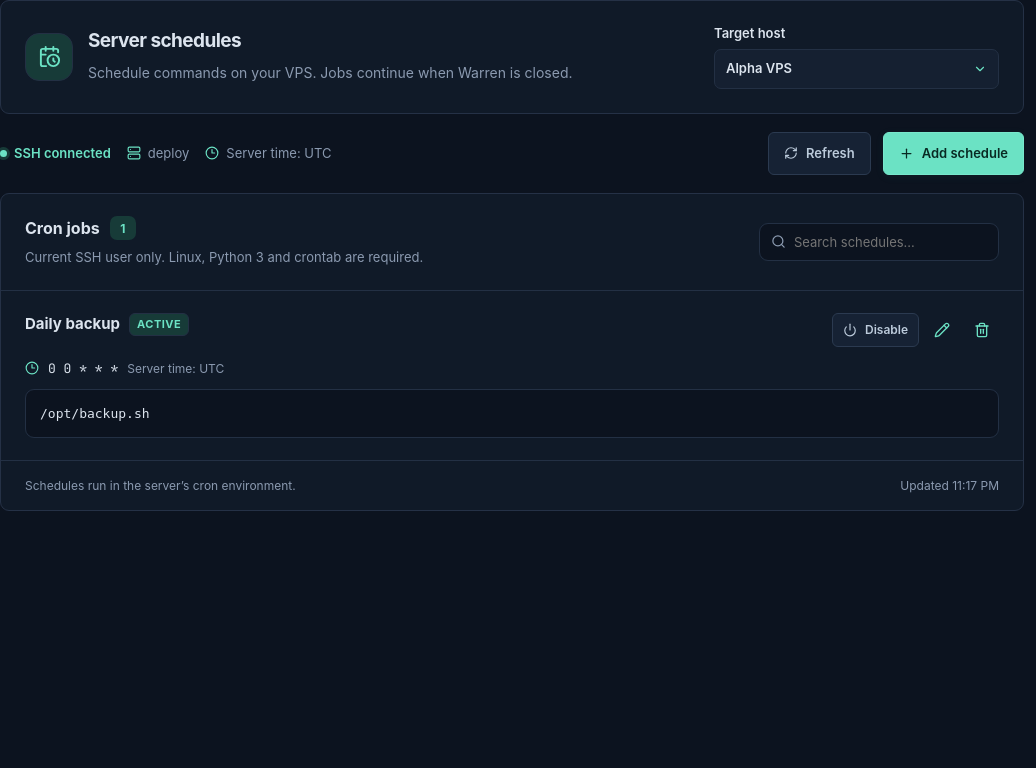
Test: disables a schedule and accepts the new server snapshot
Expected: the heading "Daily backup" is shown, [25,313,120,336]
Click the switch named "Enable schedule: Daily backup".
click(876, 330)  # box [832,313,919,347]
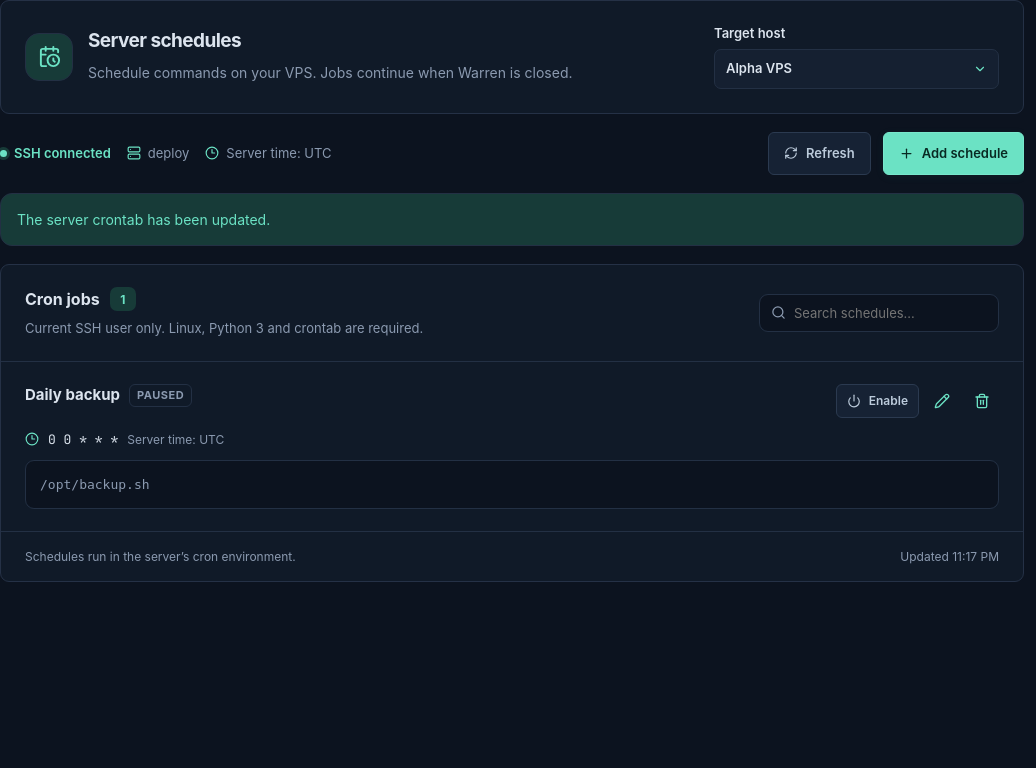
Expected: the text "PAUSED" is shown, [129,384,192,407]
